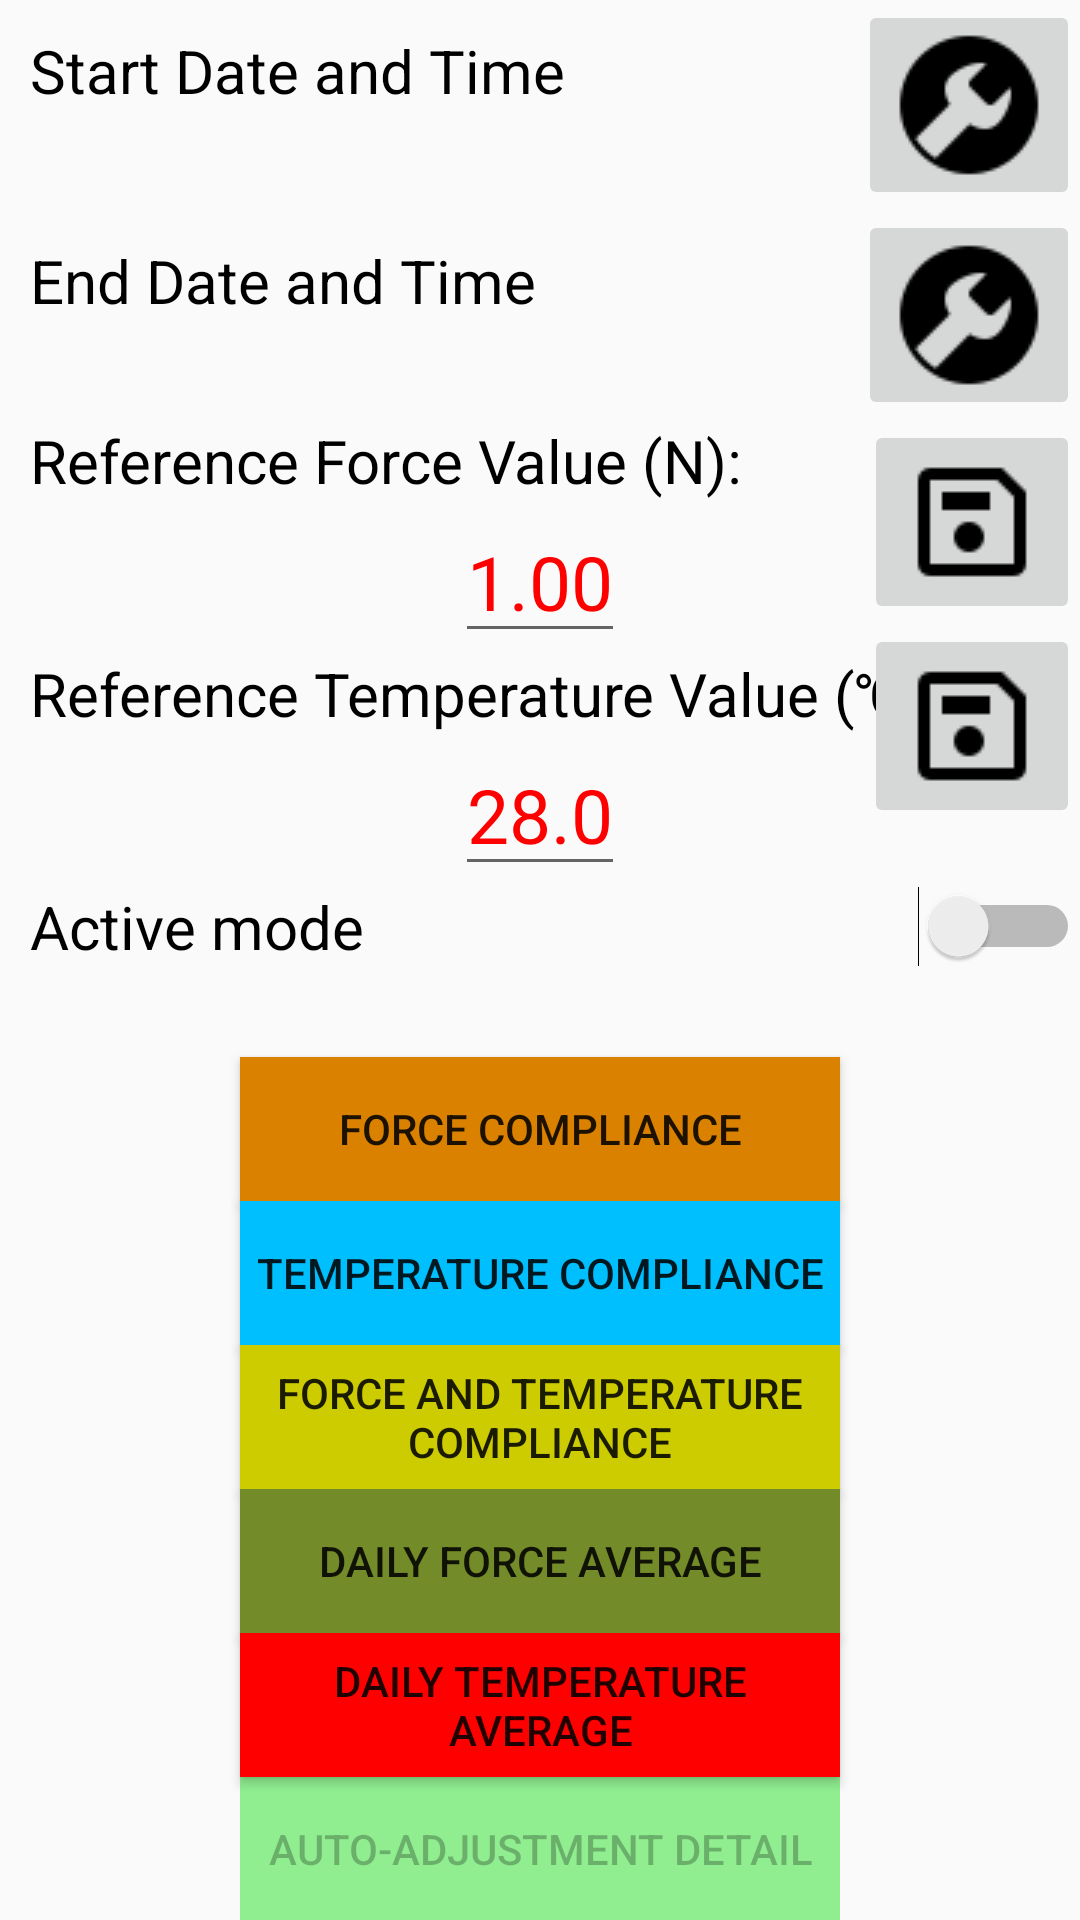

Where to tap for icons on this 1080*1920 app screen, as [x,y]:
config end time: [969,315]
config start time: [969,105]
save force: [972,522]
save temperature: [970,726]
